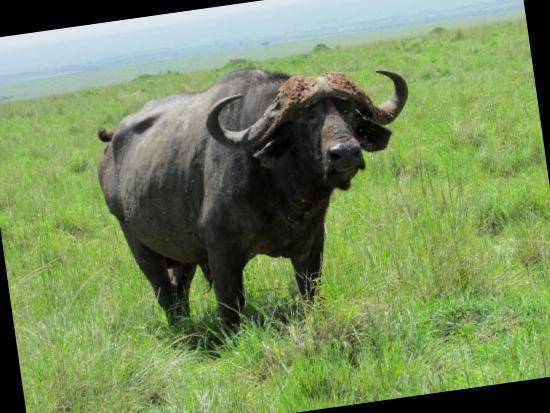Buffalo: (69, 29, 513, 382)
